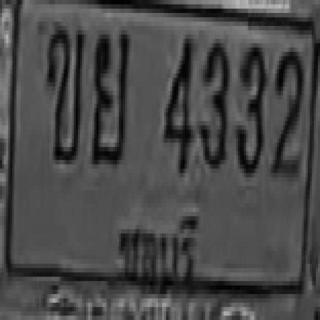A02: (45, 21, 84, 160)
A34: (90, 26, 127, 160)
N02: (271, 45, 302, 175)
N03: (234, 39, 265, 173), (198, 39, 229, 164)
N04: (162, 32, 191, 171)
P13: (114, 202, 203, 289)
